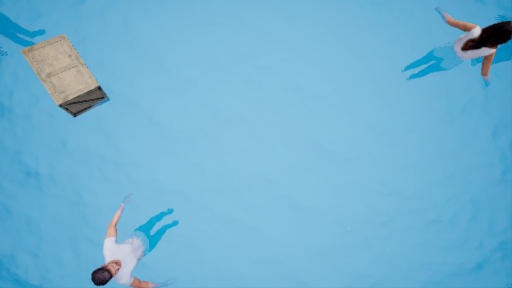person: (77, 196, 185, 286)
